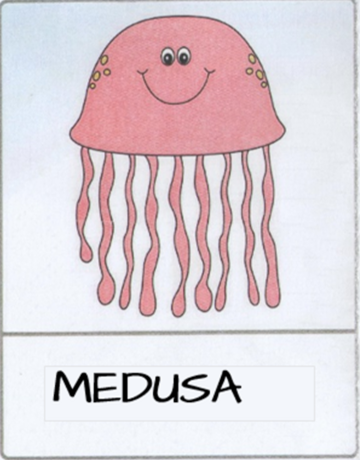medusa: (10, 6, 348, 434)
